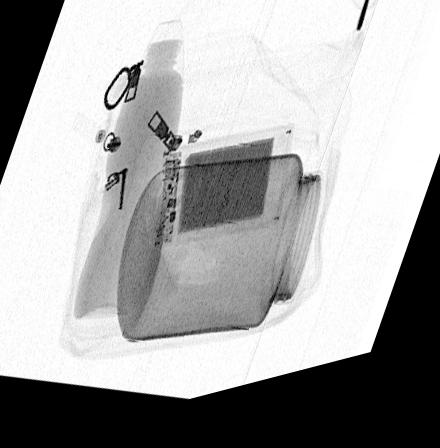Powerbank: (153, 139, 294, 257)
